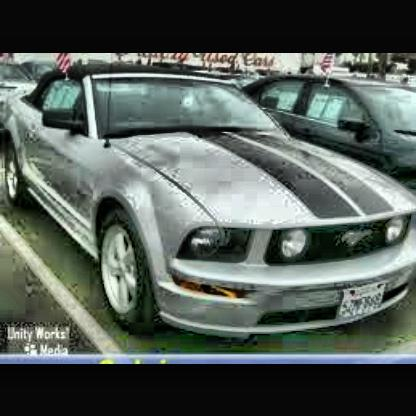Ford Mustang Convertible 2007: (2, 57, 416, 358)
